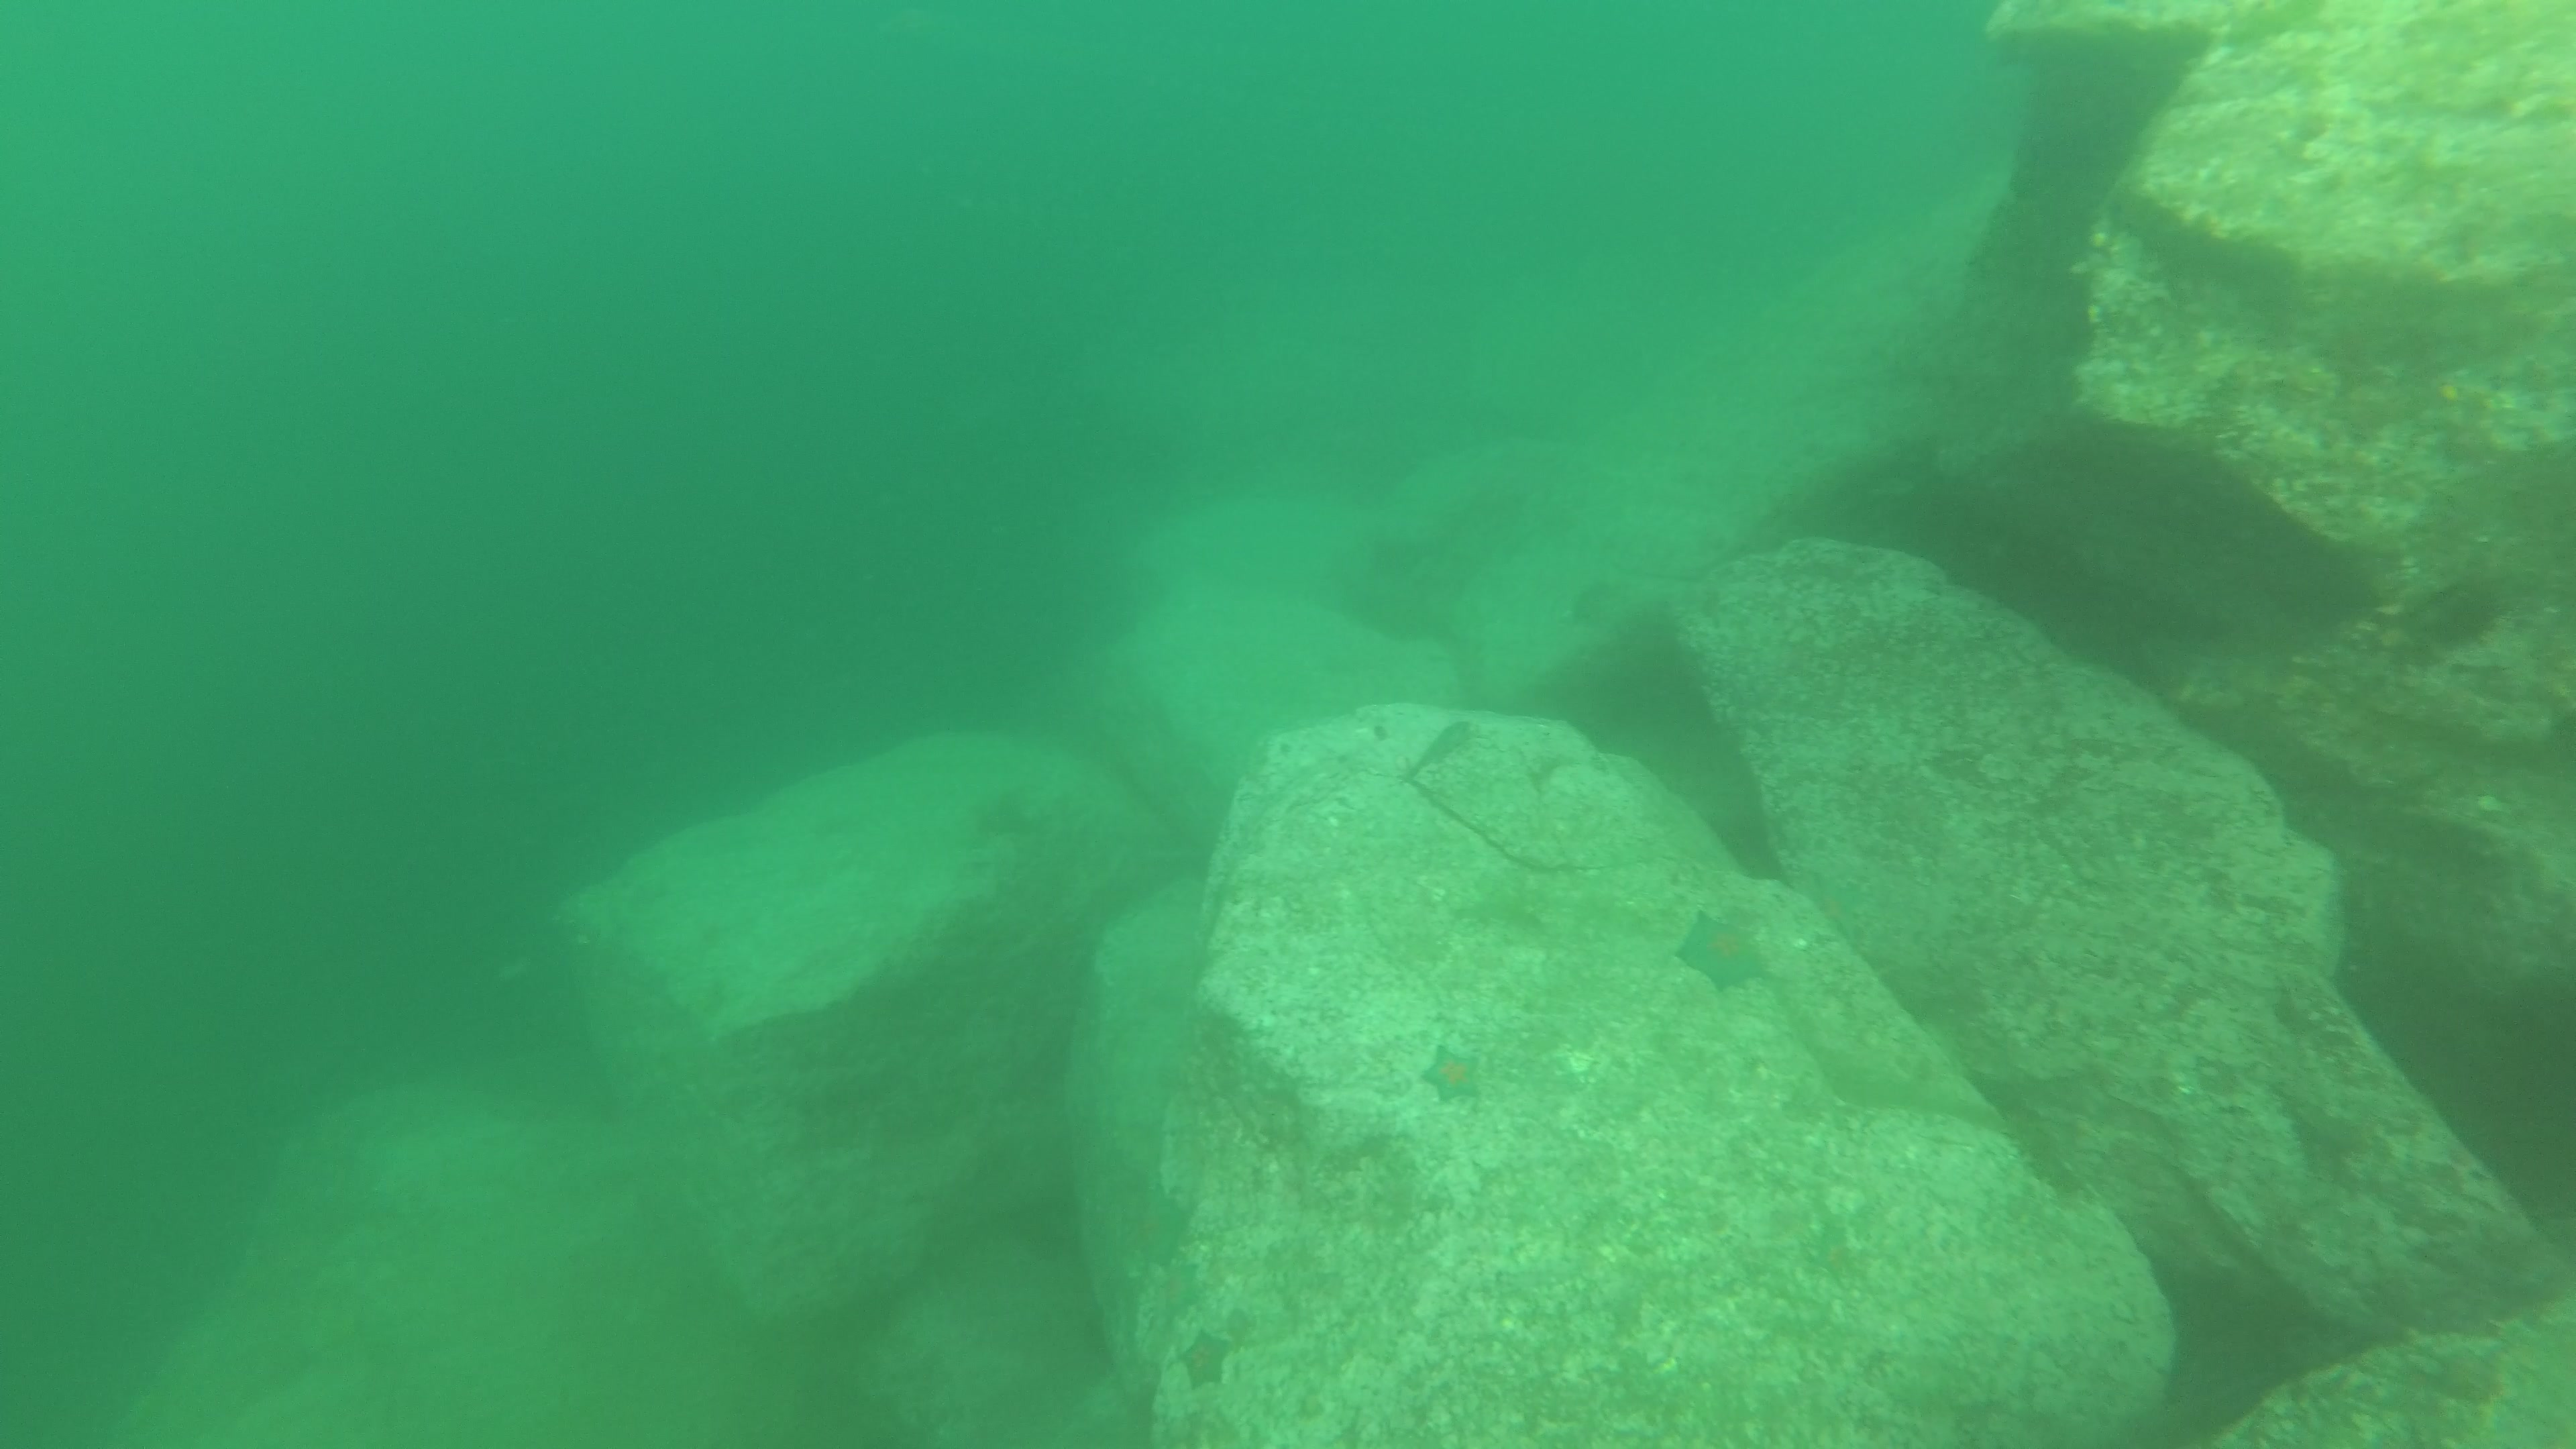starfish: (1672, 904, 1771, 996), (1417, 1039, 1490, 1111), (1168, 1330, 1235, 1394)
